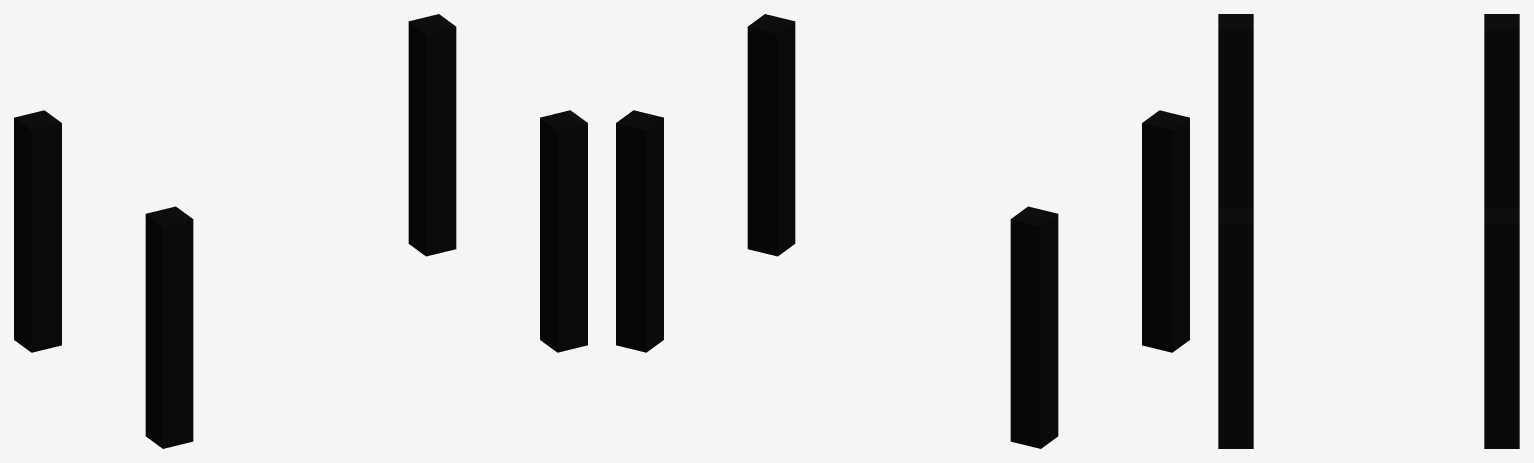
File: Table.vox-1.obj
3 views of the same model, side by side, from view 1: azimuth 30°, elevation 25°; view 2: azimuth 150°, elevation 25°; view 3: azimuth 270°, elevation 25° (orthographic).
Bounding box in the file's own units: 2.8 × 1.4 × 1.7.
Materials: 1 (1 with a texture image).
